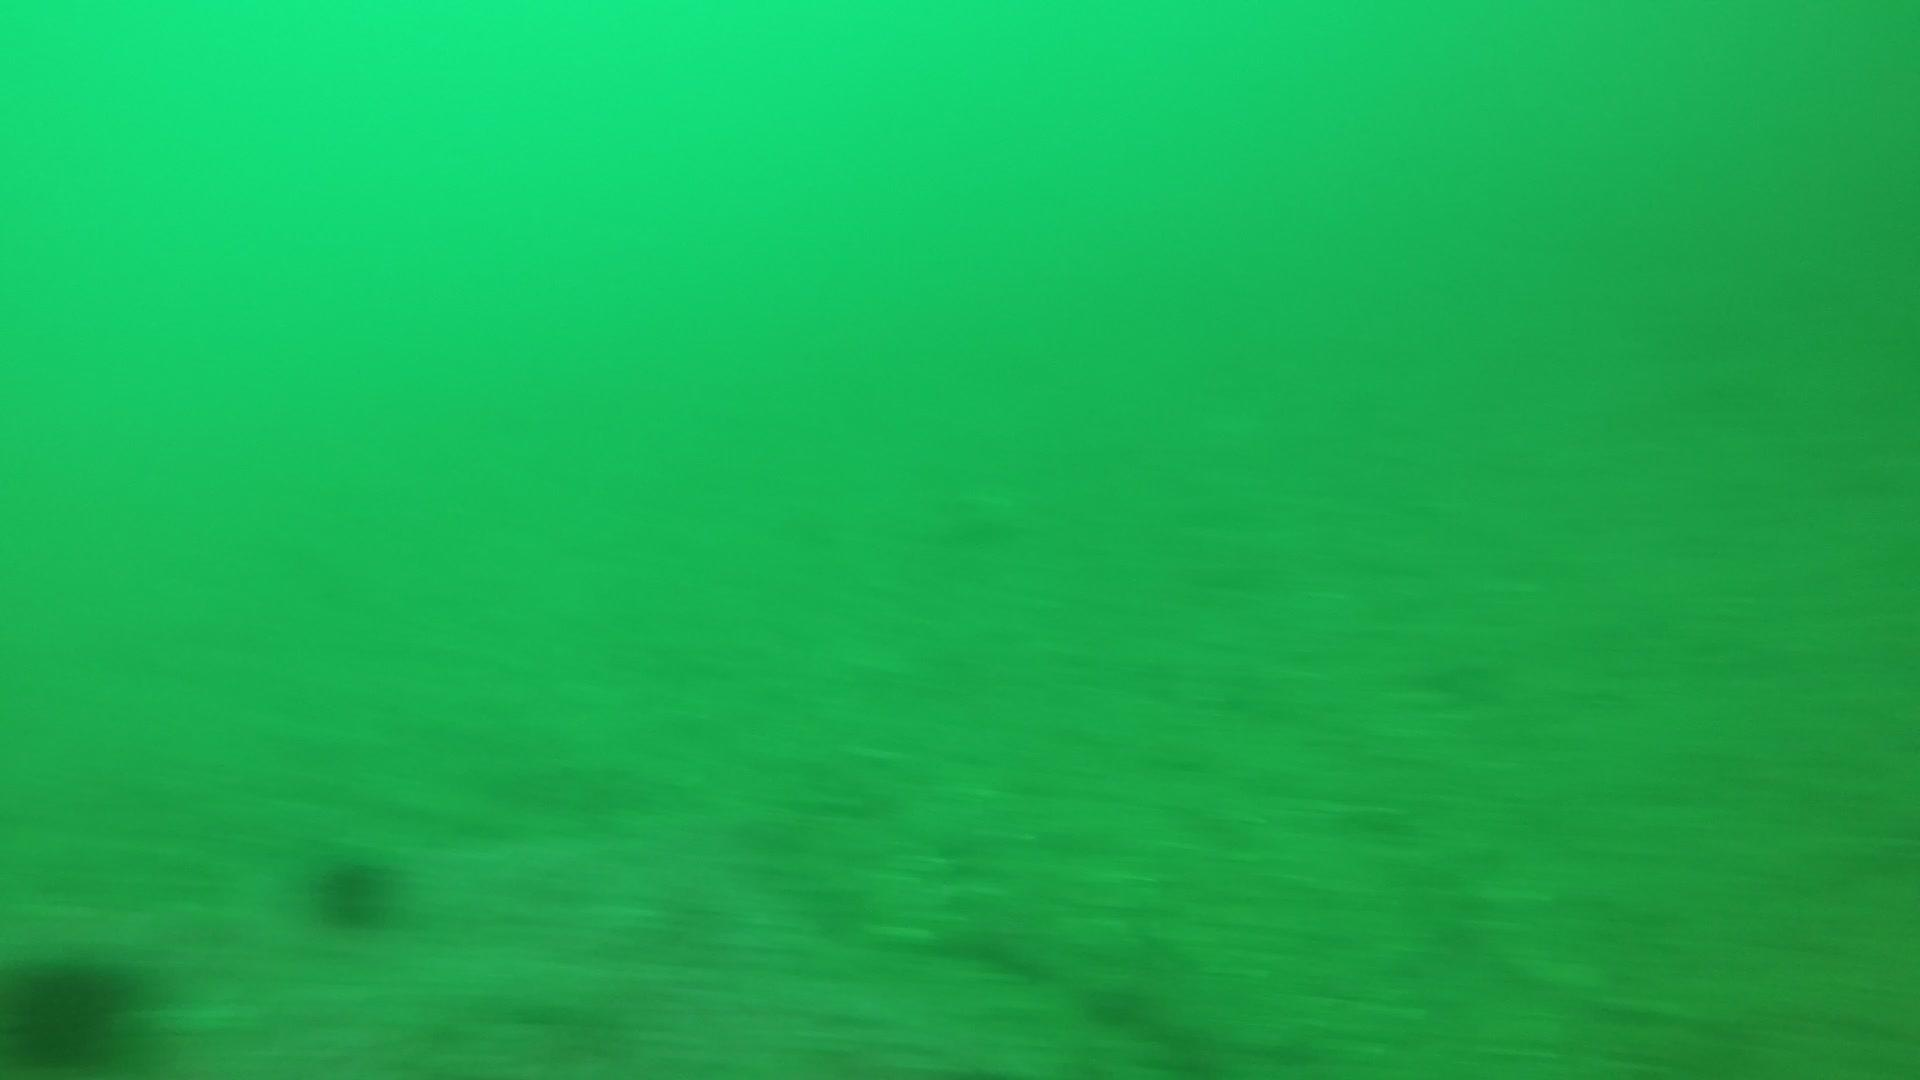echinus: (1, 944, 146, 1071), (302, 843, 406, 935)
